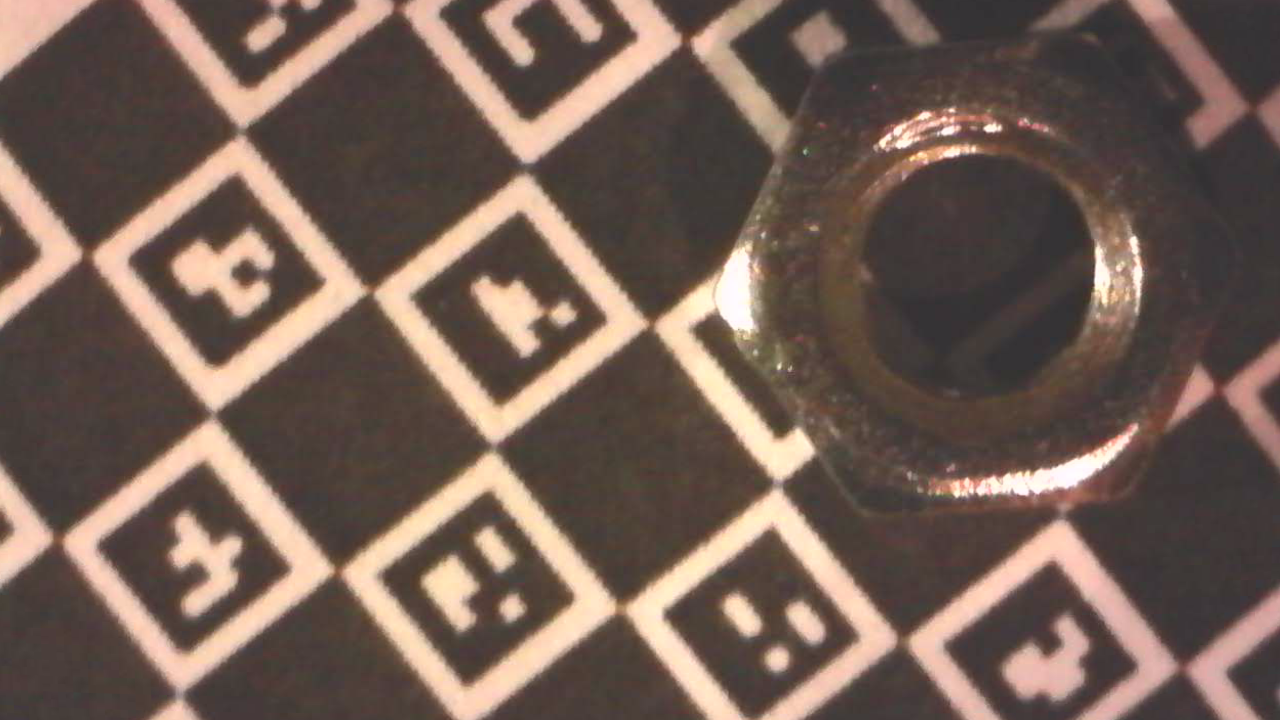Bolt: (710, 30, 1247, 518)
